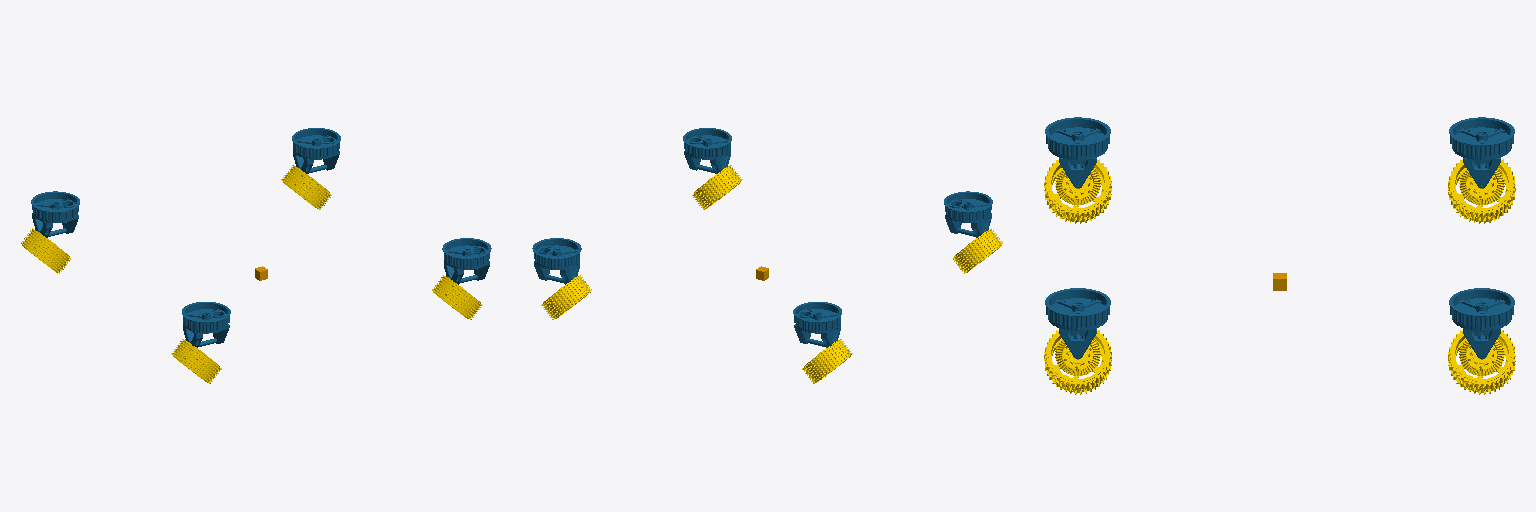
robot.urdf — edna:
<?xml version="1.0"?><!--
=================================================================================== --><!-- |    This document was autogenerated by xacro from
/workspaces/rift2024/install/edna_description/share/edna_description/urdf/robots/edna.urdf.xacro
| --><!-- |    EDITING THIS FILE BY HAND IS NOT RECOMMENDED                                 | --><!--
=================================================================================== -->
<robot name="edna"><!-- Specify some standard inertial calculations
    https://en.wikipedia.org/wiki/List_of_moments_of_inertia --><!-- These make use of xacro's mathematical functionality -->
    <material name="black">
        <color rgba="0.0 0.0 0.0 1.0" />
    </material>
    <material name="blue">
        <color rgba="0.13725490196078433 0.43137254901960786 0.5882352941176471 1.0" />
    </material>
    <material name="green">
        <color rgba="0.0 0.8 0.0 1.0" />
    </material>
    <material name="grey">
        <color rgba="0.2 0.2 0.2 1.0" />
    </material>
    <material name="yellow">
        <color rgba="1.0 0.8431372549019608 0.0 1" />
    </material>
    <material name="orange">
        <color rgba="0.9529411764705882 0.5294117647058824 0.1843137254901961 1" />
    </material>
    <material name="brown">
        <color rgba="0.8705882352941177 0.8117647058823529 0.7647058823529411 1.0" />
    </material>
    <material name="red">
        <color rgba="0.8 0.0 0.0 1.0" />
    </material>
    <material name="white">
        <color rgba="1.0 1.0 1.0 1.0" />
    </material>
    <material name="silver">
        <color rgba="0.700 0.700 0.700 1.000" />
    </material>
    <material name="zed2i_mat">
        <color rgba="0.25 0.25 0.25 0.99" />
    </material>
    <material name="black">
        <color rgba="0.0 0.0 0.0 1.0" />
    </material>
    <material name="blue">
        <color rgba="0.13725490196078433 0.43137254901960786 0.5882352941176471 1.0" />
    </material>
    <material name="green">
        <color rgba="0.0 0.8 0.0 1.0" />
    </material>
    <material name="grey">
        <color rgba="0.2 0.2 0.2 1.0" />
    </material>
    <material name="yellow">
        <color rgba="1.0 0.8431372549019608 0.0 1" />
    </material>
    <material name="orange">
        <color rgba="0.9529411764705882 0.5294117647058824 0.1843137254901961 1" />
    </material>
    <material name="brown">
        <color rgba="0.8705882352941177 0.8117647058823529 0.7647058823529411 1.0" />
    </material>
    <material name="red">
        <color rgba="0.8 0.0 0.0 1.0" />
    </material>
    <material name="white">
        <color rgba="1.0 1.0 1.0 1.0" />
    </material>
    <material name="silver">
        <color rgba="0.700 0.700 0.700 1.000" />
    </material>
    <material name="zed2i_mat">
        <color rgba="0.25 0.25 0.25 0.99" />
    </material><!-- Made up values, replace with real
    ones later. -->
    <link name="base_link" />
    <link name="swerve_chassis_link">
        <inertial>
            <origin rpy="0 0 0" xyz="0 0 0" />
            <mass value="19.0508795" />
            <inertia ixx="0.8663421337789339" ixy="0.0" ixz="0.0" iyy="0.8663421337789339" iyz="0.0"
                izz="1.7227696361205036" />
        </inertial>
        <visual>
            <origin rpy="0 0 0" xyz="0.061605 -0.34976 -0.53866" />
            <geometry>
                <mesh filename="package://edna_description/meshes/SwerveChassis.stl"
                    scale="0.001 0.001 0.001" />
            </geometry>
            <material name="red" />
        </visual>
        <collision>
            <origin rpy="0 0 0" xyz="0 0.02794 0" />
            <geometry>
                <box size="0.7366 0.05588 0.7366" />
            </geometry>
        </collision>
    </link>
    <joint name="swerve_chassis_joint" type="fixed">
        <parent link="base_link" />
        <child link="swerve_chassis_link" />
        <origin rpy="1.5707963267948966 0 0" xyz="0 0 0" />
    </joint>
    <link name="front_left_axle_link">
        <visual>
            <origin rpy="0 0 0" xyz="0 0 0" />
            <geometry>
                <mesh filename="package://edna_description/meshes/SwerveAxle.stl"
                    scale="0.001 0.001 0.001" />
            </geometry>
            <material name="blue" />
        </visual>
        <inertial>
            <origin rpy="0 0 0" xyz="0 0 0" />
            <mass value="0.23739" />
            <inertia ixx="0.0003625461623249999" ixy="0.0" ixz="0.0" iyy="0.0003625461623249999"
                iyz="0.0" izz="0.0006676593749999999" />
        </inertial>
    </link>
    <joint name="front_left_axle_joint" type="continuous">
        <parent link="swerve_chassis_link" />
        <child link="front_left_axle_link" />
        <origin rpy="1.5707963267948966 0 0" xyz="0.301625 0.06905599999999999 0.301625" />
        <axis xyz="0 0 1" />
        <dynamics friction="0.1" />
    </joint>
    <link name="front_left_wheel_link">
        <visual>
            <origin rpy="0 0.7853981633974483 0" xyz="0 0 0" />
            <geometry>
                <mesh filename="package://edna_description/meshes/SwerveWheel.stl"
                    scale="0.001 0.001 0.001" />
            </geometry>
            <material name="yellow" />
        </visual>
        <collision>
            <origin rpy="0 1.5707963267948966 0" xyz="0.021 0 0" />
            <geometry>
                <cylinder length="0.0381" radius="0.0508" />
            </geometry>
        </collision>
        <inertial>
            <origin rpy="0 1.5707963267948966 0" xyz="0 0 0" />
            <mass value="0.23133211" />
            <inertia ixx="0.00017722989110402498" ixy="0.0" ixz="0.0" iyy="0.00017722989110402498"
                iyz="0.0" izz="0.0002984924481752" />
        </inertial>
    </link>
    <joint name="front_left_wheel_joint" type="continuous">
        <parent link="front_left_axle_link" />
        <child link="front_left_wheel_link" />
        <origin rpy="0 0 0" xyz="-0.022 0 0.065" />
        <axis xyz="1 0 0" />
        <dynamics friction="0.1" />
    </joint>
    <link name="front_right_axle_link">
        <visual>
            <origin rpy="0 0 0" xyz="0 0 0" />
            <geometry>
                <mesh filename="package://edna_description/meshes/SwerveAxle.stl"
                    scale="0.001 0.001 0.001" />
            </geometry>
            <material name="blue" />
        </visual>
        <inertial>
            <origin rpy="0 0 0" xyz="0 0 0" />
            <mass value="0.23739" />
            <inertia ixx="0.0003625461623249999" ixy="0.0" ixz="0.0" iyy="0.0003625461623249999"
                iyz="0.0" izz="0.0006676593749999999" />
        </inertial>
    </link>
    <joint name="front_right_axle_joint" type="continuous">
        <parent link="swerve_chassis_link" />
        <child link="front_right_axle_link" />
        <origin rpy="1.5707963267948966 0 0" xyz="-0.301625 0.06905599999999999 0.301625" />
        <axis xyz="0 0 1" />
        <dynamics friction="0.1" />
    </joint>
    <link name="front_right_wheel_link">
        <visual>
            <origin rpy="0 0.7853981633974483 0" xyz="0 0 0" />
            <geometry>
                <mesh filename="package://edna_description/meshes/SwerveWheel.stl"
                    scale="0.001 0.001 0.001" />
            </geometry>
            <material name="yellow" />
        </visual>
        <collision>
            <origin rpy="0 1.5707963267948966 0" xyz="0.021 0 0" />
            <geometry>
                <cylinder length="0.0381" radius="0.0508" />
            </geometry>
        </collision>
        <inertial>
            <origin rpy="0 1.5707963267948966 0" xyz="0 0 0" />
            <mass value="0.23133211" />
            <inertia ixx="0.00017722989110402498" ixy="0.0" ixz="0.0" iyy="0.00017722989110402498"
                iyz="0.0" izz="0.0002984924481752" />
        </inertial>
    </link>
    <joint name="front_right_wheel_joint" type="continuous">
        <parent link="front_right_axle_link" />
        <child link="front_right_wheel_link" />
        <origin rpy="0 0 0" xyz="-0.022 0 0.065" />
        <axis xyz="1 0 0" />
        <dynamics friction="0.1" />
    </joint>
    <link name="rear_left_axle_link">
        <visual>
            <origin rpy="0 0 0" xyz="0 0 0" />
            <geometry>
                <mesh filename="package://edna_description/meshes/SwerveAxle.stl"
                    scale="0.001 0.001 0.001" />
            </geometry>
            <material name="blue" />
        </visual>
        <inertial>
            <origin rpy="0 0 0" xyz="0 0 0" />
            <mass value="0.23739" />
            <inertia ixx="0.0003625461623249999" ixy="0.0" ixz="0.0" iyy="0.0003625461623249999"
                iyz="0.0" izz="0.0006676593749999999" />
        </inertial>
    </link>
    <joint name="rear_left_axle_joint" type="continuous">
        <parent link="swerve_chassis_link" />
        <child link="rear_left_axle_link" />
        <origin rpy="1.5707963267948966 0 0" xyz="0.301625 0.06905599999999999 -0.301625" />
        <axis xyz="0 0 1" />
        <dynamics friction="0.1" />
    </joint>
    <link name="rear_left_wheel_link">
        <visual>
            <origin rpy="0 0.7853981633974483 0" xyz="0 0 0" />
            <geometry>
                <mesh filename="package://edna_description/meshes/SwerveWheel.stl"
                    scale="0.001 0.001 0.001" />
            </geometry>
            <material name="yellow" />
        </visual>
        <collision>
            <origin rpy="0 1.5707963267948966 0" xyz="0.021 0 0" />
            <geometry>
                <cylinder length="0.0381" radius="0.0508" />
            </geometry>
        </collision>
        <inertial>
            <origin rpy="0 1.5707963267948966 0" xyz="0 0 0" />
            <mass value="0.23133211" />
            <inertia ixx="0.00017722989110402498" ixy="0.0" ixz="0.0" iyy="0.00017722989110402498"
                iyz="0.0" izz="0.0002984924481752" />
        </inertial>
    </link>
    <joint name="rear_left_wheel_joint" type="continuous">
        <parent link="rear_left_axle_link" />
        <child link="rear_left_wheel_link" />
        <origin rpy="0 0 0" xyz="-0.022 0 0.065" />
        <axis xyz="1 0 0" />
        <dynamics friction="0.1" />
    </joint>
    <link name="rear_right_axle_link">
        <visual>
            <origin rpy="0 0 0" xyz="0 0 0" />
            <geometry>
                <mesh filename="package://edna_description/meshes/SwerveAxle.stl"
                    scale="0.001 0.001 0.001" />
            </geometry>
            <material name="blue" />
        </visual>
        <inertial>
            <origin rpy="0 0 0" xyz="0 0 0" />
            <mass value="0.23739" />
            <inertia ixx="0.0003625461623249999" ixy="0.0" ixz="0.0" iyy="0.0003625461623249999"
                iyz="0.0" izz="0.0006676593749999999" />
        </inertial>
    </link>
    <joint name="rear_right_axle_joint" type="continuous">
        <parent link="swerve_chassis_link" />
        <child link="rear_right_axle_link" />
        <origin rpy="1.5707963267948966 0 0" xyz="-0.301625 0.06905599999999999 -0.301625" />
        <axis xyz="0 0 1" />
        <dynamics friction="0.1" />
    </joint>
    <link name="rear_right_wheel_link">
        <visual>
            <origin rpy="0 0.7853981633974483 0" xyz="0 0 0" />
            <geometry>
                <mesh filename="package://edna_description/meshes/SwerveWheel.stl"
                    scale="0.001 0.001 0.001" />
            </geometry>
            <material name="yellow" />
        </visual>
        <collision>
            <origin rpy="0 1.5707963267948966 0" xyz="0.021 0 0" />
            <geometry>
                <cylinder length="0.0381" radius="0.0508" />
            </geometry>
        </collision>
        <inertial>
            <origin rpy="0 1.5707963267948966 0" xyz="0 0 0" />
            <mass value="0.23133211" />
            <inertia ixx="0.00017722989110402498" ixy="0.0" ixz="0.0" iyy="0.00017722989110402498"
                iyz="0.0" izz="0.0002984924481752" />
        </inertial>
    </link>
    <joint name="rear_right_wheel_joint" type="continuous">
        <parent link="rear_right_axle_link" />
        <child link="rear_right_wheel_link" />
        <origin rpy="0 0 0" xyz="-0.022 0 0.065" />
        <axis xyz="1 0 0" />
        <dynamics friction="0.1" />
    </joint><!-- Camera mounting point (the threaded screw hole
    in the bottom) -->
    <link name="zed_camera_base_link" />
    <joint name="zed_camera_base_joint" type="fixed">
        <parent link="swerve_chassis_link" />
        <child link="zed_camera_base_link" />
        <origin rpy="1.5707963267948966 0 0" xyz=".3575 0.085 0.0" />
    </joint><!-- Camera Center -->
    <link name="zed_camera_camera_center">
        <visual>
            <origin rpy="0 0 0" xyz="-0.01 0 0" />
            <geometry>
                <mesh filename="package://edna_description/meshes/zed2i.stl" />
            </geometry>
            <material name="zed2i_mat" />
        </visual>
        <collision>
            <geometry>
                <mesh filename="package://edna_description/meshes/zed2i.stl" />
            </geometry>
        </collision>
    </link>
    <joint name="zed_camera_camera_center_joint" type="fixed">
        <parent link="zed_camera_base_link" />
        <child link="zed_camera_camera_center" />
        <origin rpy="0 0.0 0" xyz="0 0 0.015" />
    </joint><!-- Left Camera -->
    <link name="zed_camera_left_camera_frame" />
    <joint name="zed_camera_left_camera_joint" type="fixed">
        <parent link="zed_camera_camera_center" />
        <child link="zed_camera_left_camera_frame" />
        <origin rpy="0 0 0" xyz="0 0.06 0" />
    </joint>
    <link name="zed_camera_left_camera_optical_frame" />
    <joint name="zed_camera_left_camera_optical_joint" type="fixed">
        <origin rpy="-1.5707963267948966 0.0 -1.5707963267948966" xyz="-0.01 0 0" />
        <parent link="zed_camera_left_camera_frame" />
        <child link="zed_camera_left_camera_optical_frame" />
    </joint><!-- Right Camera -->
    <link name="zed_camera_right_camera_frame" />
    <joint name="zed_camera_right_camera_joint" type="fixed">
        <parent link="zed_camera_camera_center" />
        <child link="zed_camera_right_camera_frame" />
        <origin rpy="0 0 0" xyz="0 -0.06 0" />
    </joint>
    <link name="zed_camera_right_camera_optical_frame" />
    <joint name="zed_camera_right_camera_optical_joint" type="fixed">
        <origin rpy="-1.5707963267948966 0.0 -1.5707963267948966" xyz="-0.01 0 0" />
        <parent link="zed_camera_right_camera_frame" />
        <child link="zed_camera_right_camera_optical_frame" />
    </joint>
    <joint name="imu_sensor_joint" type="fixed">
        <axis xyz="0 0 1" />
        <parent link="swerve_chassis_link" />
        <child link="imu_sensor_link" />
    </joint>
    <link name="imu_sensor_link">
        <collision>
            <origin rpy="0 0 0" xyz="0 0 0" />
            <geometry>
                <box size="0.02 0.02 0.02" />
            </geometry>
        </collision>
        <visual>
            <origin rpy="0 0 0" xyz="0 0 0" />
            <geometry>
                <box size="0.02 0.02 0.02" />
            </geometry>
        </visual>
        <inertial>
            <mass value="0.001" />
            <origin rpy="0 0 0" xyz="0 0 0" />
            <inertia ixx="0.00000015" ixy="0" ixz="0" iyy="0.00000015" iyz="0" izz="0.00000015" />
        </inertial>
    </link>
    <ros2_control name="swerve_drive" type="system">
        <hardware>
            <plugin>swerve_hardware/IsaacDriveHardware</plugin>
            <param name="example_param_hw_start_duration_sec">3.0</param>
            <param name="example_param_hw_stop_duration_sec">3.0</param>
        </hardware>
        <joint name="front_right_wheel_joint">
            <command_interface name="velocity">
                <param name="min">-1</param>
                <param name="max">1</param>
            </command_interface>
            <state_interface name="position" />
            <state_interface name="velocity" />
        </joint>
        <joint name="rear_left_wheel_joint">
            <command_interface name="velocity">
                <param name="min">-1</param>
                <param name="max">1</param>
            </command_interface>
            <state_interface name="position" />
            <state_interface name="velocity" />
        </joint>
        <joint name="front_left_wheel_joint">
            <command_interface name="velocity">
                <param name="min">-1</param>
                <param name="max">1</param>
            </command_interface>
            <state_interface name="position" />
            <state_interface name="velocity" />
        </joint>
        <joint name="rear_right_wheel_joint">
            <command_interface name="velocity">
                <param name="min">-1</param>
                <param name="max">1</param>
            </command_interface>
            <state_interface name="position" />
            <state_interface name="velocity" />
        </joint>
        <joint name="front_right_axle_joint">
            <command_interface name="velocity">
                <param name="min">-1</param>
                <param name="max">1</param>
            </command_interface>
            <command_interface name="position">
                <param name="min">-1</param>
                <param name="max">1</param>
            </command_interface>
            <state_interface name="position" />
            <state_interface name="velocity" />
        </joint>
        <joint name="rear_left_axle_joint">
            <command_interface name="velocity">
                <param name="min">-1</param>
                <param name="max">1</param>
            </command_interface>
            <command_interface name="position">
                <param name="min">-1</param>
                <param name="max">1</param>
            </command_interface>
            <state_interface name="position" />
            <state_interface name="velocity" />
        </joint>
        <joint name="front_left_axle_joint">
            <command_interface name="velocity">
                <param name="min">-1</param>
                <param name="max">1</param>
            </command_interface>
            <command_interface name="position">
                <param name="min">-1</param>
                <param name="max">1</param>
            </command_interface>
            <state_interface name="position" />
            <state_interface name="velocity" />
        </joint>
        <joint name="rear_right_axle_joint">
            <command_interface name="velocity">
                <param name="min">-1</param>
                <param name="max">1</param>
            </command_interface>
            <command_interface name="position">
                <param name="min">-1</param>
                <param name="max">1</param>
            </command_interface>
            <state_interface name="position" />
            <state_interface name="velocity" />
        </joint>
    </ros2_control>
</robot>

--- Facts derived from the render (not from the file) ---
3 views of the same robot in one strip: view 1: azimuth 30°, elevation 25°; view 2: azimuth 150°, elevation 25°; view 3: azimuth 270°, elevation 25° (orthographic).
Robot: edna — 17 links, 16 joints (8 continuous, 8 fixed); root link base_link; default pose: every joint at zero.
Links seen in each view (by area): view 1: rear_left_axle_link, front_right_axle_link, rear_right_axle_link, front_left_axle_link, rear_right_wheel_link, front_left_wheel_link, rear_left_wheel_link, front_right_wheel_link; view 2: front_left_axle_link, rear_right_axle_link, front_right_axle_link, rear_left_axle_link, front_right_wheel_link, rear_left_wheel_link, front_left_wheel_link, rear_right_wheel_link; view 3: front_left_axle_link, rear_left_axle_link, front_right_axle_link, rear_right_axle_link, front_left_wheel_link, rear_right_wheel_link, front_right_wheel_link, rear_left_wheel_link.
Boxes of the visible links, x1,y1,x2,y2 form: rear_left_axle_link: (292,128,340,173); front_right_axle_link: (182,302,230,347); rear_right_axle_link: (31,191,79,237); front_left_axle_link: (442,238,491,284); rear_right_wheel_link: (21,228,70,273); front_left_wheel_link: (432,275,482,319); rear_left_wheel_link: (281,165,331,209); front_right_wheel_link: (171,339,221,383); front_left_axle_link: (683,128,731,173); rear_right_axle_link: (793,302,841,347); front_right_axle_link: (944,191,992,237); rear_left_axle_link: (532,238,581,284); front_right_wheel_link: (953,229,1002,273); rear_left_wheel_link: (541,275,591,319); front_left_wheel_link: (692,165,742,209); rear_right_wheel_link: (802,339,852,383); front_left_axle_link: (1045,288,1110,358); rear_left_axle_link: (1449,288,1514,358); front_right_axle_link: (1045,117,1110,187); rear_right_axle_link: (1449,117,1514,187); front_left_wheel_link: (1044,330,1111,394); rear_right_wheel_link: (1448,159,1515,223); front_right_wheel_link: (1044,159,1111,223); rear_left_wheel_link: (1448,330,1515,394).
Bounding box of the posed robot: 0.7238 × 0.7034 × 0.1527 m (x, y, z).
Meshes: 4 distinct files referenced, 8 mesh visuals loaded (2 binary STL); not drawn: 2 (reference not matched to a file when rendering).
